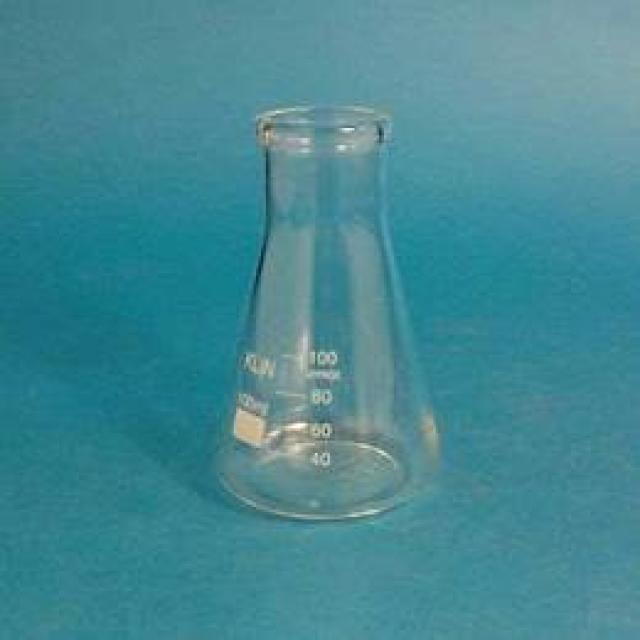Titrarion: (204, 106, 442, 520)
